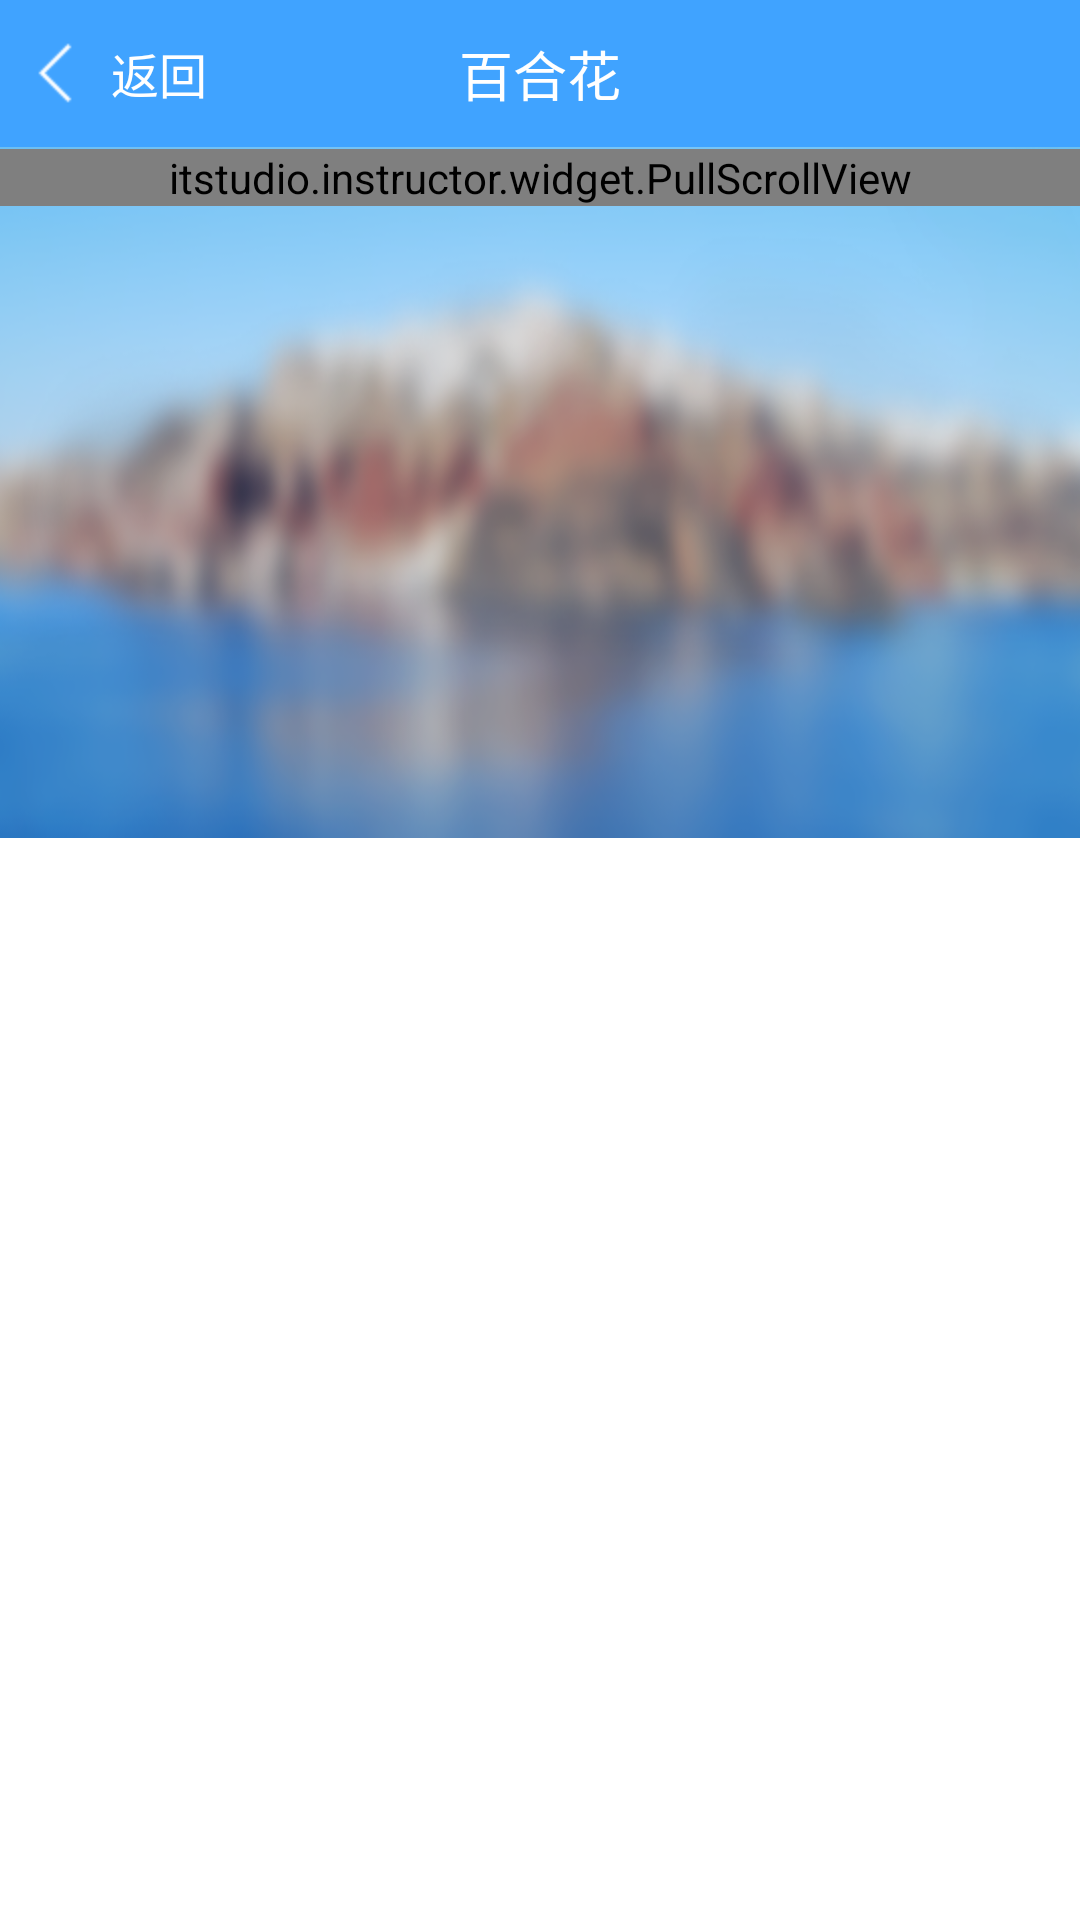

Screen size 1080x1920. Icon name, then its center in pixels as point (x, y):
arrow back: point (55, 73)
